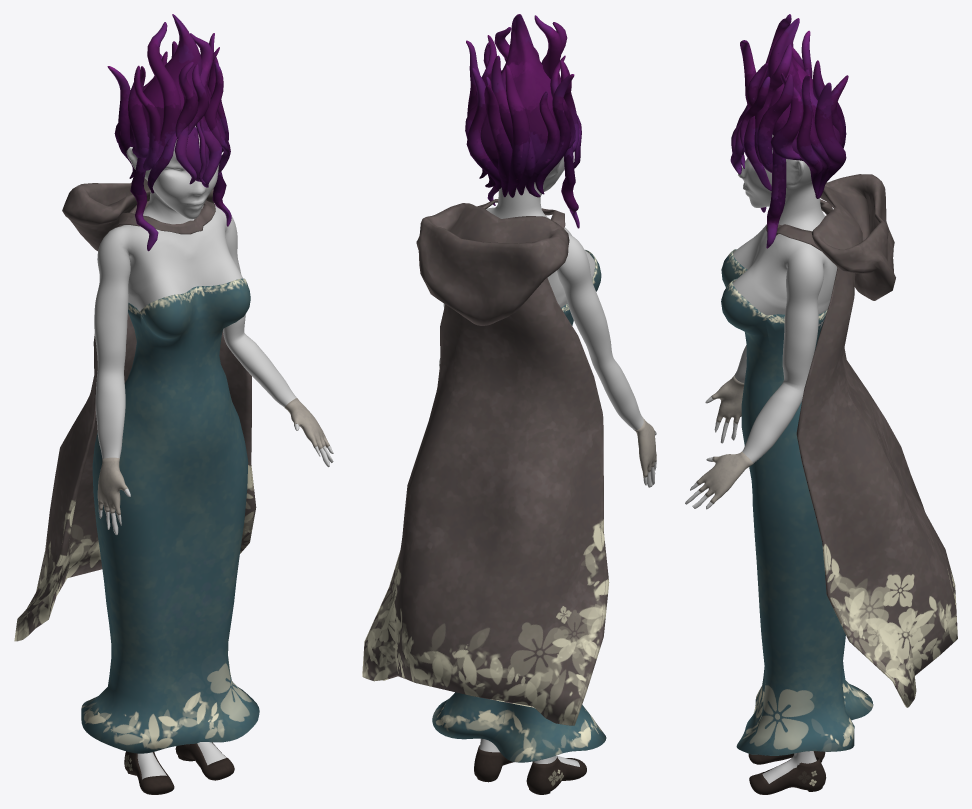
Rendered from sorciere_finale.fbx.
3 renders of one model, left to right at view 1: azimuth 30°, elevation 25°; view 2: azimuth 150°, elevation 25°; view 3: azimuth 270°, elevation 25°, orthographic.
Parts seen in each view (by area): view 1: robe, Retopo_corps_enchanteresse, cape, cheveux, gant_gauche, ballerine_droite, ballerine_gauche, gant_droit; view 2: cape, cheveux, Retopo_corps_enchanteresse, robe, ballerine_gauche, ballerine_droite, gant_gauche; view 3: cape, robe, Retopo_corps_enchanteresse, cheveux, ballerine_droite, gant_droit, gant_gauche.
Part boxes in pixels (x1=…): robe: x1=81, y1=278, x2=259, y2=753; Retopo_corps_enchanteresse: x1=94, y1=126, x2=333, y2=779; cape: x1=14, y1=178, x2=256, y2=641; cheveux: x1=107, y1=14, x2=231, y2=251; gant_gauche: x1=97, y1=457, x2=128, y2=515; ballerine_droite: x1=175, y1=742, x2=234, y2=780; ballerine_gauche: x1=124, y1=751, x2=174, y2=794; gant_droit: x1=285, y1=398, x2=329, y2=449; cape: x1=362, y1=199, x2=609, y2=725; cheveux: x1=465, y1=14, x2=581, y2=228; Retopo_corps_enchanteresse: x1=439, y1=156, x2=656, y2=766; robe: x1=432, y1=249, x2=606, y2=762; ballerine_gauche: x1=526, y1=756, x2=586, y2=794; ballerine_droite: x1=474, y1=745, x2=514, y2=782; gant_gauche: x1=633, y1=418, x2=656, y2=477; cape: x1=766, y1=174, x2=957, y2=707; robe: x1=721, y1=249, x2=873, y2=755; Retopo_corps_enchanteresse: x1=685, y1=134, x2=837, y2=783; cheveux: x1=730, y1=14, x2=848, y2=248; ballerine_droite: x1=749, y1=756, x2=826, y2=794; gant_droit: x1=696, y1=451, x2=753, y2=503; gant_gauche: x1=711, y1=375, x2=744, y2=423.
Bounding box in the file's own units: 51.67 × 166 × 53.98.
